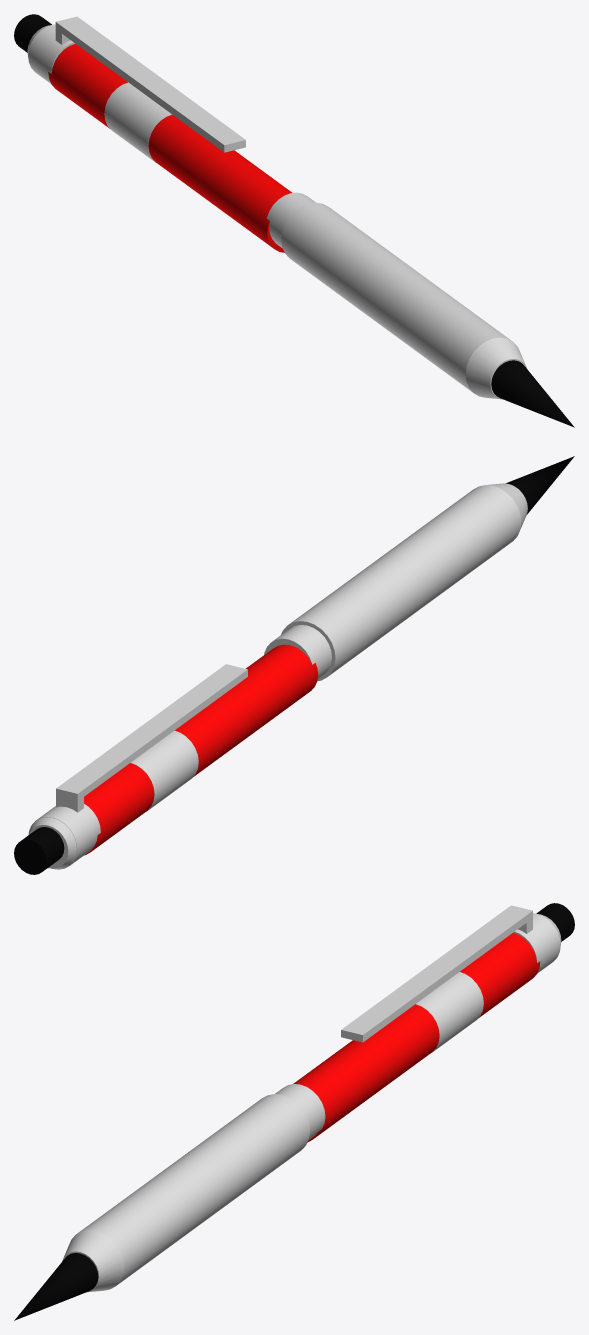
3 views of the same model, one above another, from view 1: azimuth 30°, elevation 25°; view 2: azimuth 150°, elevation 25°; view 3: azimuth 330°, elevation 25° (orthographic).
Visible parts, largest first — view 1: stylus; view 2: stylus; view 3: stylus.
Boxes of the visible parts, x1,y1,x2,y2 form: stylus: (14, 14, 574, 427); stylus: (14, 456, 574, 874); stylus: (14, 903, 574, 1320).
Size of the model in its own units: 0.0104 by 0.0121 by 0.1736.
